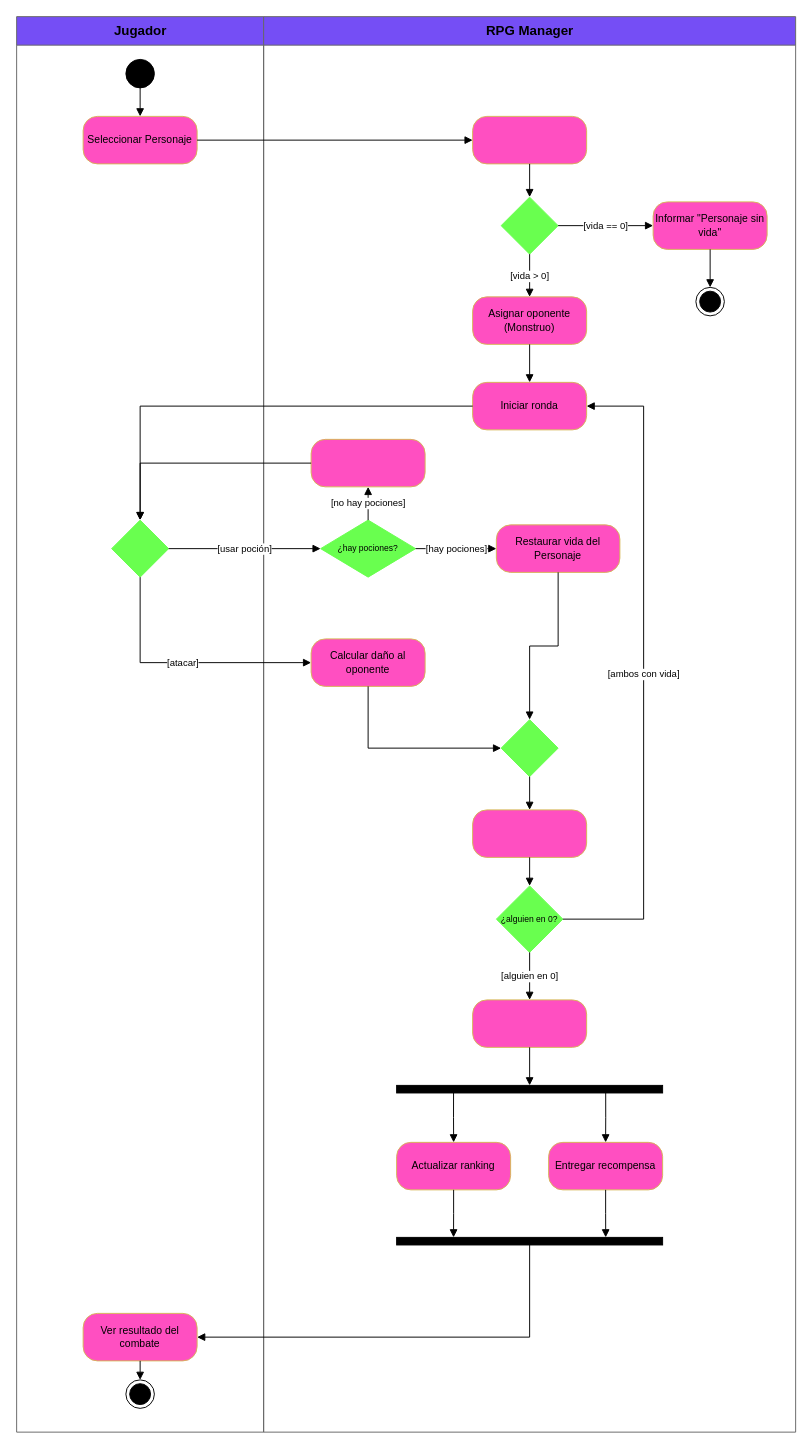
Image size: 812x1449. Some labels were removed from this diagram. The centre of each missing label's shape, as x and y in pixels:
Determinar ganador: pixel 529 1023
Ejecutar turno del oponente: pixel 529 833
Informar "Sin pociones": pixel 367 462
Validar Personaje vivo: pixel 529 139
¿acción?: pixel 140 548
¿vida?: pixel 529 225
